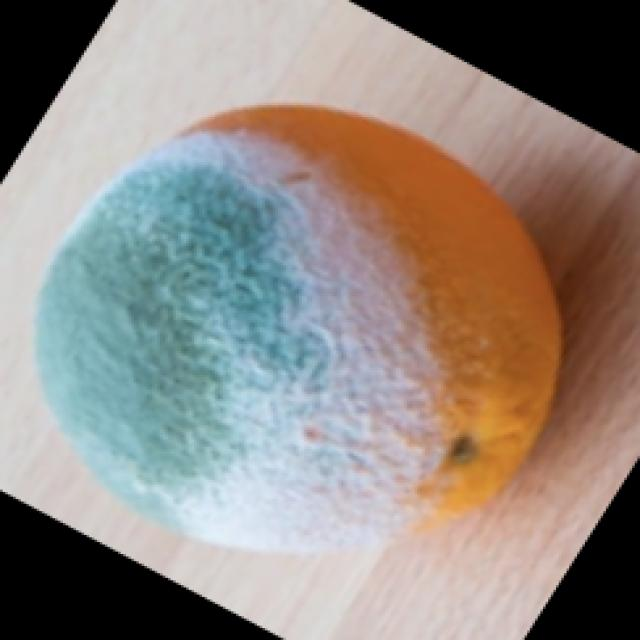sangat_busuk: (30, 97, 554, 550)
